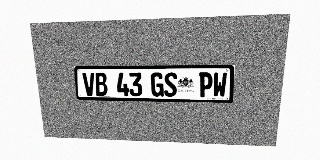3: (129, 72, 142, 96)
4: (116, 73, 129, 96)
B: (94, 73, 108, 96)
G: (151, 72, 164, 97)
P: (198, 72, 213, 97)
S: (164, 72, 177, 97)
V: (82, 73, 96, 96)
W: (212, 72, 227, 97)
